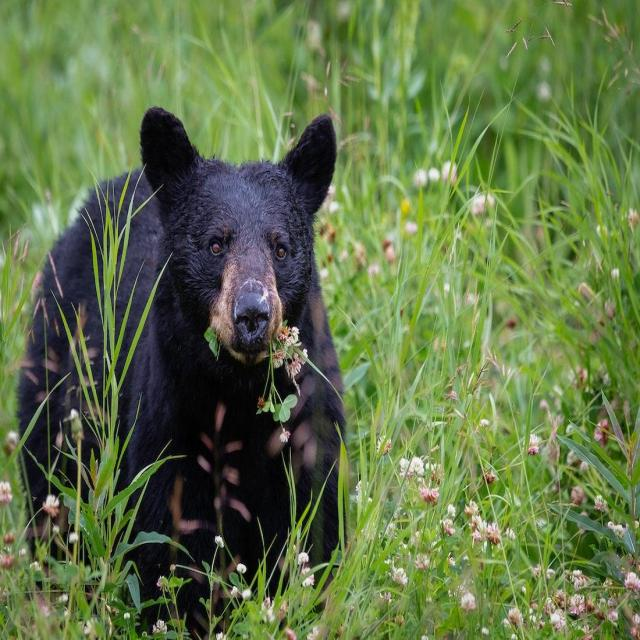Bear: (12, 107, 351, 640)
